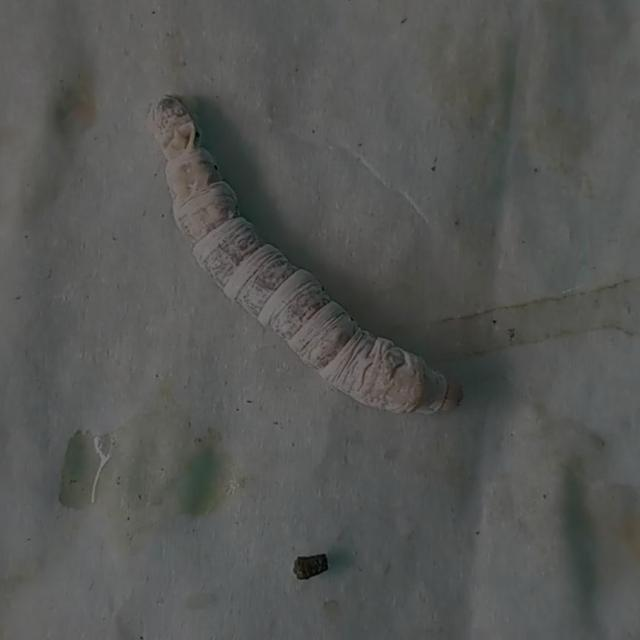Grasserie: (139, 67, 478, 430)
